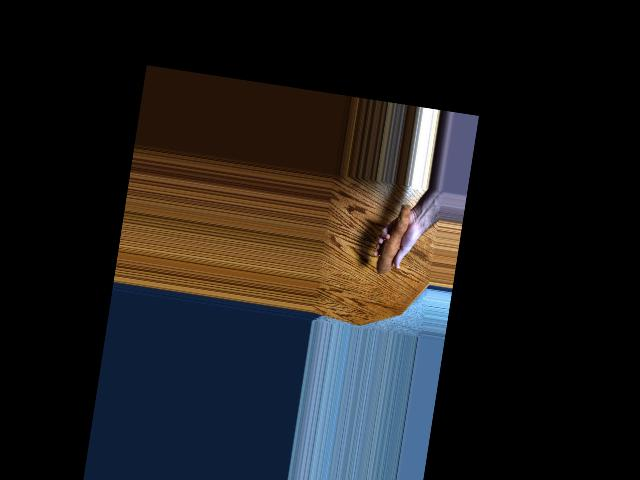sweet_potato: (374, 203, 412, 278)
